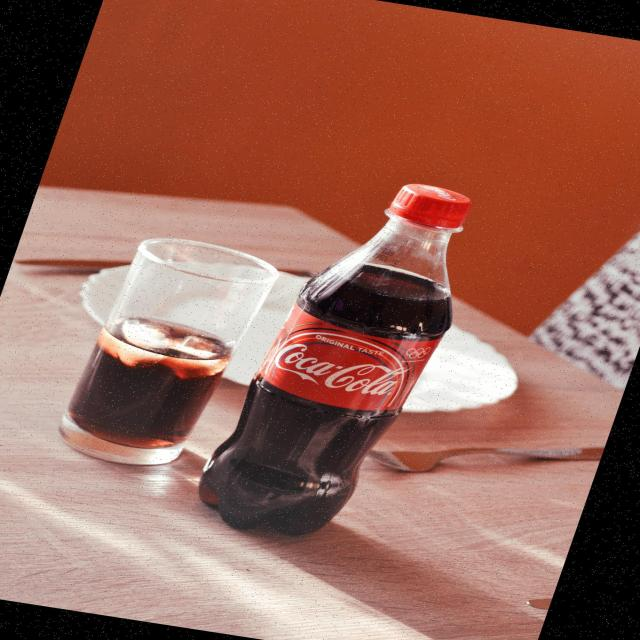coca-cola: (185, 156, 504, 564)
